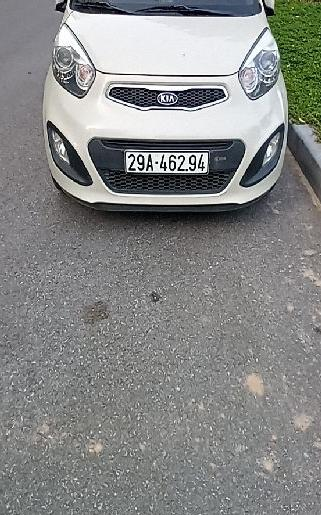Plate-iWeP: (124, 148, 211, 176)
